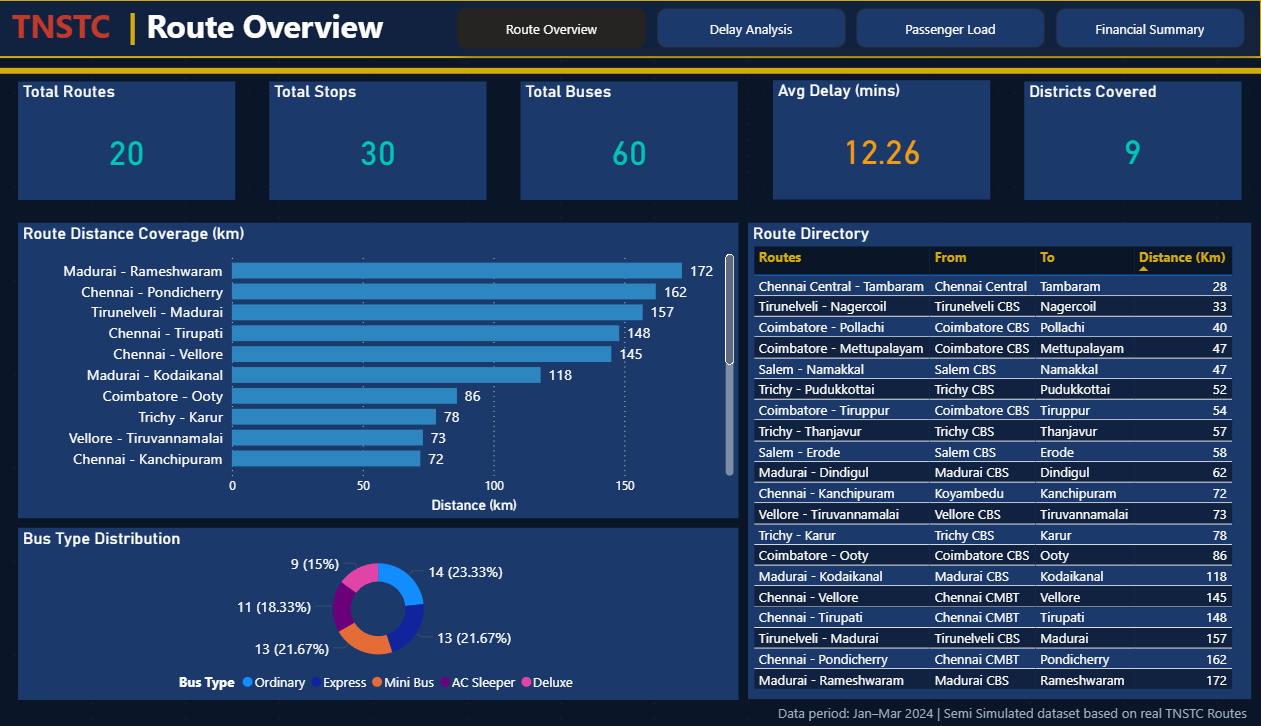

This screenshot's page, from the dashboard's own definition file:
{"tool":"powerbi","page":{"name":"Route Overview","canvas":[1280,737],"ordinal":0},"visuals":[{"type":"shape","box":[0,0,1280,59.8],"z":0},{"type":"textbox","box":[0,0,1280,60.3],"z":1000},{"type":"shape","box":[0,59.8,1280,26.4],"z":2000},{"type":"card","title":"Total Routes","fields":{"Values":["CountNonNull(routes.route_id)"]},"box":[20,83,220,120],"z":3000},{"type":"card","title":"Total Stops","fields":{"Values":["CountNonNull(stops.stop_id)"]},"box":[274.7,83,220,120],"z":4000},{"type":"card","title":"Avg Delay (mins)","fields":{"Values":["Avg(trips.delay_minutes)"]},"box":[784.2,82.5,220.3,120.6],"z":5000},{"type":"card","title":"Total Buses","fields":{"Values":["CountNonNull(buses.bus_id)"]},"box":[529.5,83,220,120],"z":6000},{"type":"clusteredBarChart","title":"Route Distance Coverage (km) ","fields":{"Category":["routes.route_name"],"Y":["Sum(routes.distance_km)"]},"box":[19.7,226.5,729.8,299.1],"z":7000},{"type":"card","title":"Districts Covered","fields":{"Values":["Count(routes.start_stop)"]},"box":[1039.3,83.5,219.8,119.7],"z":8000},{"type":"donutChart","title":"Bus Type Distribution","fields":{"Category":["buses.bus_type"],"Y":["CountNonNull(buses.bus_id)"]},"box":[19.7,535.4,729.8,174.8],"z":9000},{"type":"tableEx","title":"Route Directory","fields":{"Values":["routes.route_name","routes.start_stop","routes.end_stop","Sum(routes.distance_km)"]},"box":[759.4,226.5,509.5,482.5],"z":10000},{"type":"textbox","box":[784.4,709.4,495.3,28.1],"z":11000},{"type":"pageNavigator","box":[464,8.6,800,41.8],"z":12000}]}

Visuals, with their boxes in screenshot pixels (x1, y1, x2, y2), scaled from the page's 1280x737 canvas onto the 1261x726 screenshot:
shape: {"x1": 0, "y1": 0, "x2": 1260, "y2": 59}
textbox: {"x1": 0, "y1": 0, "x2": 1260, "y2": 59}
shape: {"x1": 0, "y1": 59, "x2": 1260, "y2": 85}
"Total Routes" card: {"x1": 20, "y1": 82, "x2": 236, "y2": 200}
"Total Stops" card: {"x1": 271, "y1": 82, "x2": 487, "y2": 200}
"Avg Delay (mins)" card: {"x1": 773, "y1": 81, "x2": 990, "y2": 200}
"Total Buses" card: {"x1": 522, "y1": 82, "x2": 738, "y2": 200}
"Route Distance Coverage (km) " clusteredBarChart: {"x1": 19, "y1": 223, "x2": 738, "y2": 518}
"Districts Covered" card: {"x1": 1024, "y1": 82, "x2": 1240, "y2": 200}
"Bus Type Distribution" donutChart: {"x1": 19, "y1": 527, "x2": 738, "y2": 700}
"Route Directory" tableEx: {"x1": 748, "y1": 223, "x2": 1250, "y2": 698}
textbox: {"x1": 773, "y1": 699, "x2": 1260, "y2": 725}
pageNavigator: {"x1": 457, "y1": 8, "x2": 1245, "y2": 50}
